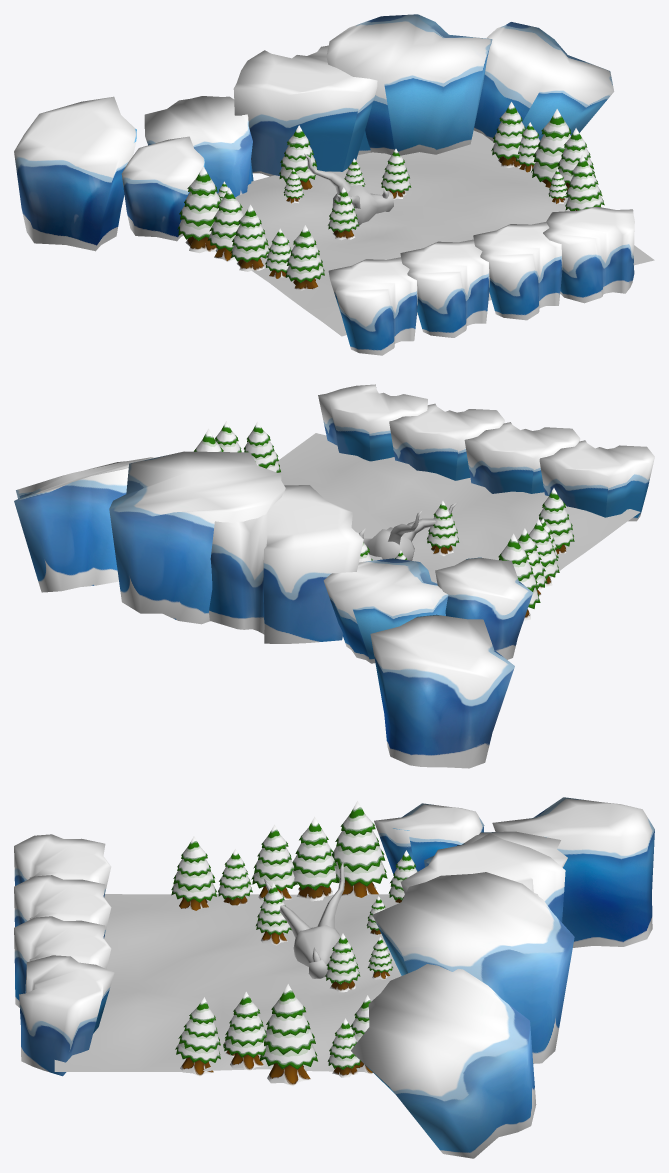
The model's file is Map_1_A_3.FBX.
3 views of the same model, one above another, from view 1: azimuth 30°, elevation 25°; view 2: azimuth 150°, elevation 25°; view 3: azimuth 270°, elevation 25° (orthographic). The views are drawn at different scales.
Visible parts, largest first — view 1: tereno1, Iceberg016, Iceberg024, Iceberg018, Iceberg017, Iceberg011, Iceberg023, Iceberg022, Iceberg021, Iceberg019, Iceberg01, Three057 (+13 smaller); view 2: Iceberg016, tereno1, Iceberg018, Iceberg024, Iceberg017, Iceberg019, Iceberg023, Iceberg01, Iceberg022, Iceberg021, Iceberg011, Animal bones1 (+6 smaller); view 3: tereno1, Iceberg017, Iceberg016, Iceberg024, Iceberg011, Iceberg018, Iceberg01, Iceberg021, Iceberg022, Iceberg023, Three089, Three057 (+14 smaller).
Part boxes in pixels (x1,y1,x2,y2): tereno1: (235, 130, 654, 336); Iceberg016: (326, 14, 492, 155); Iceberg024: (14, 96, 136, 251); Iceberg018: (233, 45, 377, 176); Iceberg017: (473, 22, 614, 141); Iceberg011: (543, 206, 634, 303); Iceberg023: (328, 257, 417, 355); Iceberg022: (400, 239, 489, 337); Iceberg021: (473, 221, 562, 320); Iceberg019: (144, 96, 253, 197); Iceberg01: (121, 136, 204, 241); Three057: (177, 166, 221, 253); Iceberg016: (109, 451, 285, 624); tereno1: (278, 433, 640, 583); Iceberg018: (209, 485, 363, 643); Iceberg024: (370, 614, 514, 768); Iceberg017: (14, 457, 156, 592); Iceberg019: (323, 558, 448, 663); Iceberg023: (539, 440, 654, 521); Iceberg01: (435, 557, 532, 659); Iceberg022: (464, 422, 580, 493); Iceberg021: (389, 403, 504, 480); Iceberg011: (318, 384, 427, 461); Animal bones1: (359, 502, 457, 560); tereno1: (54, 894, 401, 1071); Iceberg017: (351, 964, 536, 1158); Iceberg016: (372, 872, 574, 1063); Iceberg024: (492, 797, 654, 947); Iceberg011: (19, 955, 114, 1076); Iceberg018: (400, 833, 565, 922); Iceberg01: (374, 803, 484, 873); Iceberg021: (14, 916, 111, 1007); Iceberg022: (14, 875, 111, 938); Iceberg023: (14, 834, 111, 897); Three089: (258, 984, 317, 1086); Three057: (332, 801, 387, 897).
Size of the model in its own units: 852 by 240 by 764.
